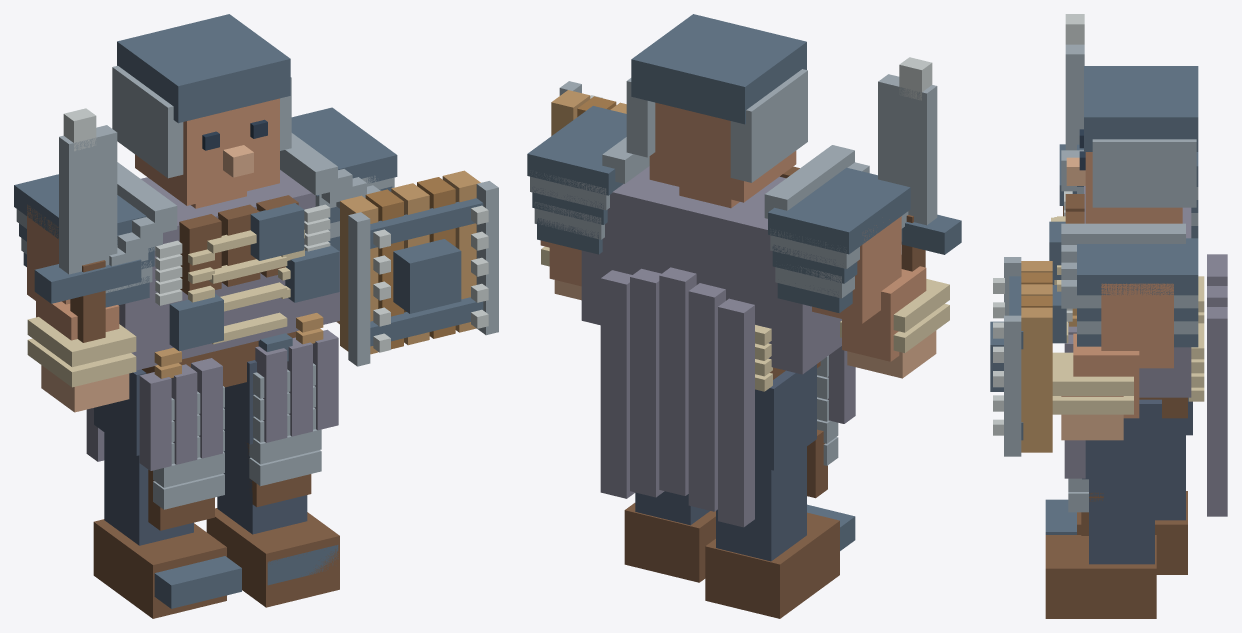
File: arena-q-veteran.glb
The picture shows the model from 3 angles, left to right: view 1: azimuth 30°, elevation 25°; view 2: azimuth 150°, elevation 25°; view 3: azimuth 270°, elevation 25°; orthographic projection. The views are drawn at different scales.
Visible parts, largest first — view 1: Shield, Helmet, Boots, Shoulders, Skirt, Weapon, Legs, Greaves, Cloth, Head, Repairs, Rivets (+9 smaller); view 2: Cape, Shoulders, Cloth, Helmet, Boots, Legs, Weapon, Arms, Head, Wraps, Greaves, Hands (+3 smaller); view 3: Helmet, Shoulders, Legs, Boots, Shield, Arms, Cape, Wraps, Weapon, Cloth, Head, Hands (+8 smaller).
Boxes of the visible parts, x1,y1,x2,y2 form: Shield: (340,170,498,366); Helmet: (112,14,291,178); Boots: (93,508,339,618); Shoulders: (14,107,397,307); Skirt: (139,329,338,470); Weapon: (34,108,141,342); Legs: (94,360,307,545); Greaves: (148,363,321,530); Cloth: (119,170,339,370); Head: (135,98,279,208); Repairs: (169,203,339,351); Rivets: (155,204,488,352); Cape: (600,267,754,527); Shoulders: (527,106,910,313); Cloth: (581,166,841,374); Helmet: (626,14,807,182); Boots: (624,503,855,618); Legs: (635,364,816,561); Weapon: (878,57,961,271); Arms: (540,216,926,361); Head: (649,102,796,208); Wraps: (541,246,949,352); Greaves: (807,355,838,498); Hands: (554,280,936,378); Helmet: (1084,66,1198,207); Shoulders: (1061,144,1198,347); Legs: (1082,397,1192,564); Boots: (1045,491,1187,618); Shield: (990,257,1052,456); Arms: (1073,283,1173,418); Cape: (1207,254,1227,516); Wraps: (1051,217,1133,414); Weapon: (1059,14,1084,216); Cloth: (1084,186,1191,397); Head: (1085,152,1182,223); Hands: (1061,396,1123,440).
Size of the model in its own units: 1.69 by 2.02 by 0.8898.
